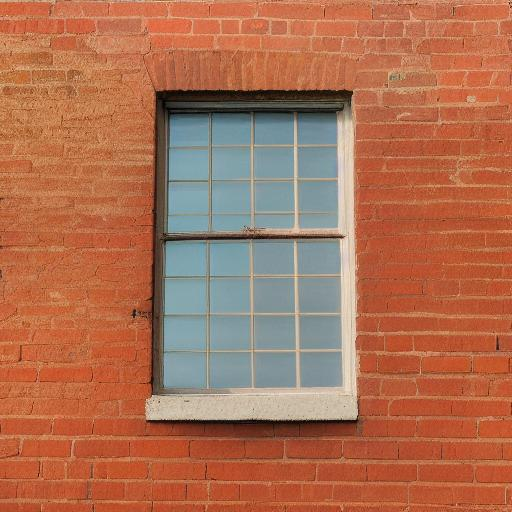Window: (143, 51, 365, 427)
